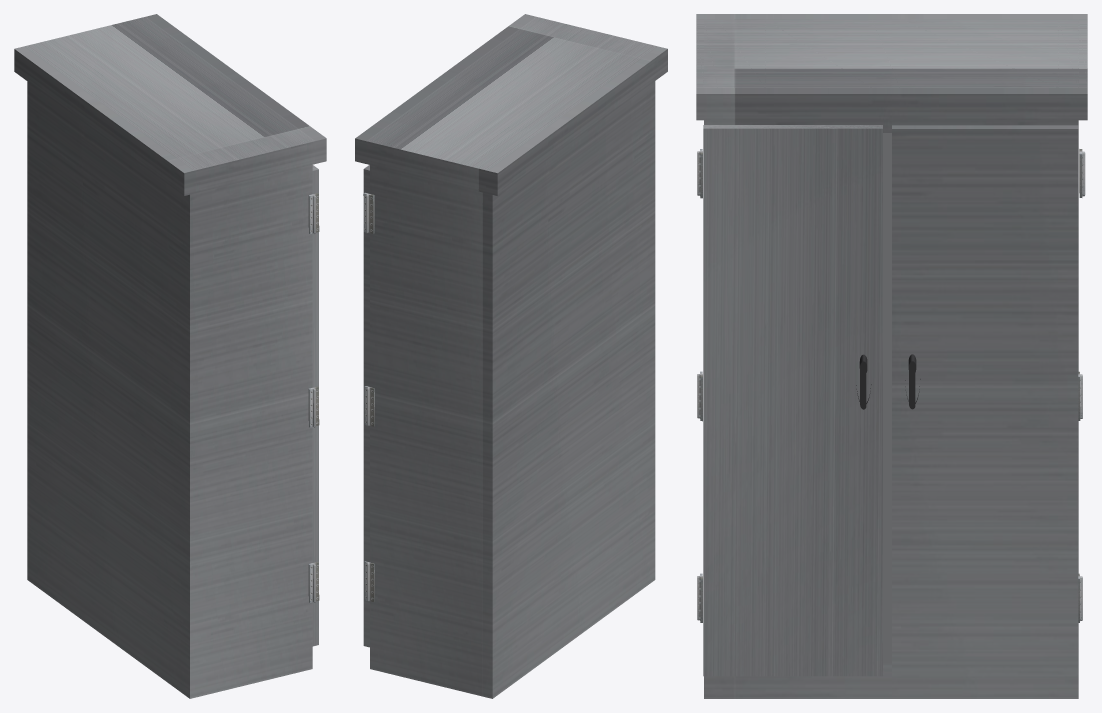
The model's file is ElectricityBox.fbx.
3 renders of one model, left to right at view 1: azimuth 30°, elevation 25°; view 2: azimuth 150°, elevation 25°; view 3: azimuth 270°, elevation 25°, orthographic. The views are drawn at different scales.
Parts seen in each view (by area): view 1: Cube, Cube.003; view 2: Cube, Cube.002; view 3: Cube.002, Cube.003, Cube.
Boxes of the visible parts, x1,y1,x2,y2 form: Cube: (14, 14, 326, 698); Cube.003: (312, 165, 318, 646); Cube: (355, 14, 667, 698); Cube.002: (363, 165, 369, 647); Cube.002: (892, 125, 1078, 677); Cube.003: (703, 125, 882, 676); Cube: (696, 14, 1087, 698).
Bounding box in the file's own units: 108 × 360 × 209.
6 materials, 6 textured.
